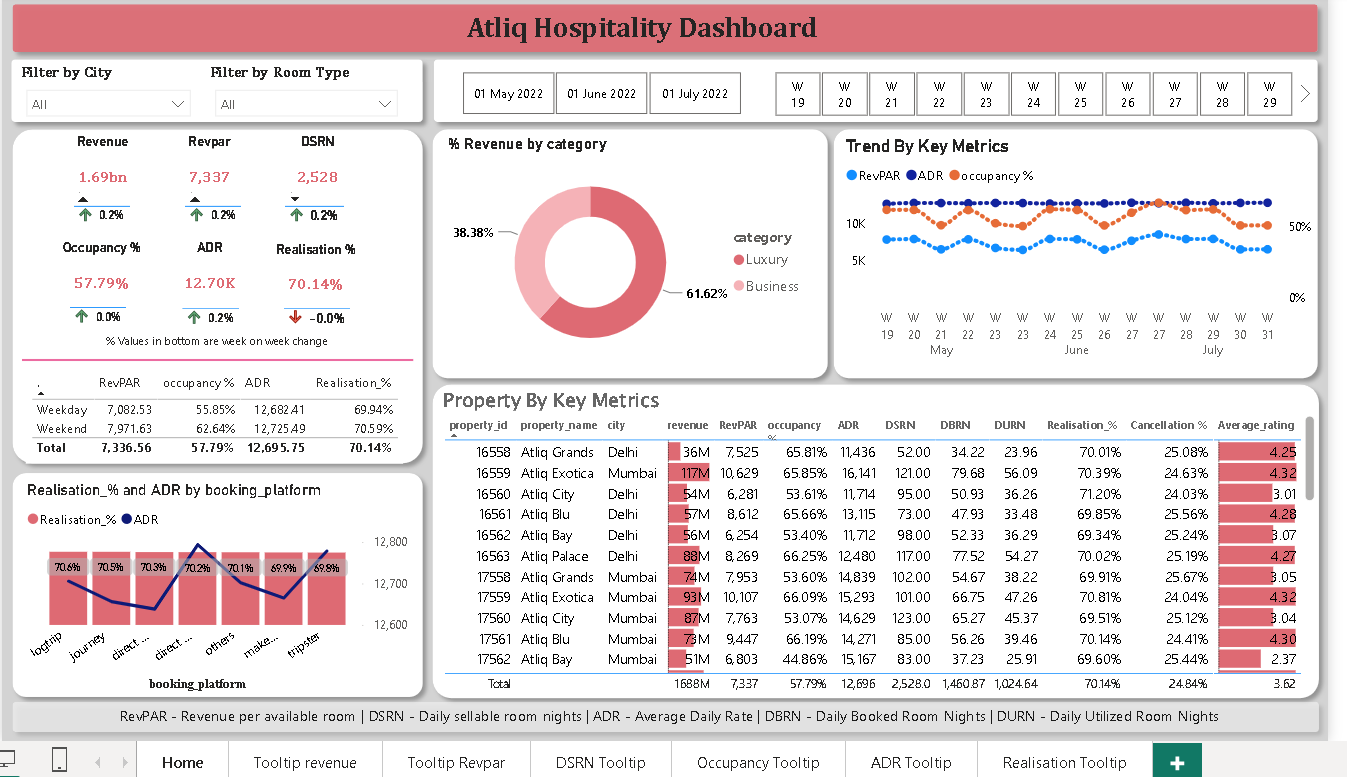

This screenshot's page, from the dashboard's own definition file:
{"tool":"powerbi","page":{"name":"Home","canvas":[1280,720],"ordinal":0},"visuals":[{"type":"shape","box":[1.2,0,1277.2,64],"z":0},{"type":"shape","box":[1.2,120.4,413.7,340.1],"z":1000},{"type":"shape","box":[0,53.1,414.9,78.4],"z":2000},{"type":"shape","box":[407.6,53.1,870.8,78.4],"z":3000},{"type":"shape","box":[1.2,452.3,413.7,234],"z":4000},{"type":"slicer","title":"Filter by City","fields":{"Values":["dim_hotels.city"]},"box":[13.3,67,178.5,53.1],"z":5000},{"type":"slicer","title":"Filter by Room Type","fields":{"Values":["dim_rooms.room_class"]},"box":[195.4,67.5,196.6,53.1],"z":6000},{"type":"slicer","fields":{"Values":["dim_date.mmm yy"]},"box":[418.5,67.5,318.4,54.3],"z":7000},{"type":"slicer","fields":{"Values":["dim_date.week no"]},"box":[720,67.5,548.7,54.3],"z":8000},{"type":"shape","box":[406.4,366.6,873.2,320.8],"z":9000},{"type":"tableEx","fields":{"Values":["key_measures.Revenue_WOW_change%"]},"box":[62.7,169.9,72.4,66.3],"z":10000},{"type":"cardVisual","title":"Revenue","fields":{"Data":["key_measures.revenue"]},"box":[46.6,133.4,100.1,57],"z":11000},{"type":"tableEx","fields":{"Values":["key_measures.Revenue_WOW_change%"]},"box":[266.5,169.9,77.2,57.9],"z":12000},{"type":"tableEx","fields":{"Values":["key_measures.RevPAR_wow_change%"]},"box":[170.1,169.9,73.6,65.1],"z":13000},{"type":"cardVisual","title":"DSRN","fields":{"Data":["key_measures.DSRN"]},"box":[253.3,133.7,102.5,56.7],"z":14000},{"type":"cardVisual","title":"Revpar","fields":{"Data":["key_measures.RevPAR"]},"box":[147.1,133.7,106.1,56.7],"z":15000},{"type":"tableEx","title":"Property By Key Metrics","fields":{"Values":["dim_hotels.property_id","dim_hotels.property_name","dim_hotels.city","key_measures.revenue","key_measures.RevPAR","key_measures.occupancy %","key_measures.ADR","key_measures.DSRN","key_measures.DBRN","key_measures.DURN","key_measures.Realisation_%","key_measures.Cancellation %"]},"box":[420.9,378.7,850.3,299.1],"z":16000},{"type":"tableEx","fields":{"Values":["key_measures.Occupancy_wow_change%"]},"box":[59.1,267.6,72.4,65.1],"z":17000},{"type":"cardVisual","title":"Occupancy %","fields":{"Data":["key_measures.occupancy %"]},"box":[45.8,236.2,101.3,62.7],"z":18000},{"type":"tableEx","fields":{"Values":["key_measures.ADR_wow_change%"]},"box":[167.6,268.8,73.6,65.1],"z":19000},{"type":"cardVisual","title":"ADR","fields":{"Data":["key_measures.ADR"]},"box":[147.1,236.2,106.1,62.7],"z":20000},{"type":"tableEx","fields":{"Values":["key_measures.Realisation_wow_change%"]},"box":[265.3,268.8,77.2,65.1],"z":21000},{"type":"cardVisual","title":"Realisation %","fields":{"Data":["key_measures.Realisation_%"]},"box":[249.6,237.4,106.1,62.7],"z":22000},{"type":"shape","box":[406.4,120.8,399.2,258.1],"z":23000},{"type":"donutChart","title":"% Revenue by category","fields":{"Category":["dim_hotels.category"],"Y":["key_measures.revenue"]},"box":[425.7,135.3,358.2,229.1],"z":24000},{"type":"shape","box":[793.6,120.3,484.8,258.1],"z":25000},{"type":"lineChart","title":"Trend By Key Metrics","fields":{"Category":["dim_date.mmm yy.Variation.Date Hierarchy.Month","dim_date.week no"],"Y":["key_measures.RevPAR","key_measures.ADR"],"Y2":["key_measures.occupancy %"]},"box":[809.2,134.8,459.5,229.1],"z":26000},{"type":"lineStackedColumnComboChart","fields":{"Category":["fact_bookings.booking_platform"],"Y":["key_measures.Realisation_%"],"Y2":["key_measures.ADR"]},"box":[19.3,469.1,377.5,207.4],"z":27000},{"type":"shape","box":[1.2,673,1278.4,47],"z":28000},{"type":"textbox","box":[27.7,681.4,1232.6,31.4],"z":29000},{"type":"tableEx","fields":{"Values":["dim_date.day_type","key_measures.RevPAR","key_measures.occupancy %","key_measures.ADR","key_measures.Realisation_%"]},"box":[22.9,359.2,364.2,92.9],"z":30000},{"type":"shape","box":[19.3,335.1,377.5,33.8],"z":31000},{"type":"textbox","box":[95.3,318.4,238.8,33.8],"z":32000},{"type":"textbox","box":[414.9,9.6,405.2,43.4],"z":33000}]}

Visuals, with their boxes on the page's 1280x720 design canvas (x1, y1, x2, y2). These are canvas units, not pixel positions in the 1347x777 screenshot, which may show the page scaled, cropped or inside an application window:
shape: select_region(1, 0, 1278, 64)
shape: select_region(1, 120, 415, 460)
shape: select_region(0, 53, 415, 132)
shape: select_region(408, 53, 1278, 132)
shape: select_region(1, 452, 415, 686)
"Filter by City" slicer: select_region(13, 67, 192, 120)
"Filter by Room Type" slicer: select_region(195, 68, 392, 121)
slicer - dim_date.mmm yy: select_region(418, 68, 737, 122)
slicer - dim_date.week no: select_region(720, 68, 1269, 122)
shape: select_region(406, 367, 1280, 687)
tableEx - key_measures.Revenue_WOW_change%: select_region(63, 170, 135, 236)
"Revenue" cardVisual: select_region(47, 133, 147, 190)
tableEx - key_measures.Revenue_WOW_change%: select_region(266, 170, 344, 228)
tableEx - key_measures.RevPAR_wow_change%: select_region(170, 170, 244, 235)
"DSRN" cardVisual: select_region(253, 134, 356, 190)
"Revpar" cardVisual: select_region(147, 134, 253, 190)
"Property By Key Metrics" tableEx: select_region(421, 379, 1271, 678)
tableEx - key_measures.Occupancy_wow_change%: select_region(59, 268, 132, 333)
"Occupancy %" cardVisual: select_region(46, 236, 147, 299)
tableEx - key_measures.ADR_wow_change%: select_region(168, 269, 241, 334)
"ADR" cardVisual: select_region(147, 236, 253, 299)
tableEx - key_measures.Realisation_wow_change%: select_region(265, 269, 342, 334)
"Realisation %" cardVisual: select_region(250, 237, 356, 300)
shape: select_region(406, 121, 806, 379)
"% Revenue by category" donutChart: select_region(426, 135, 784, 364)
shape: select_region(794, 120, 1278, 378)
"Trend By Key Metrics" lineChart: select_region(809, 135, 1269, 364)
lineStackedColumnComboChart - fact_bookings.booking_platform x key_measures.Realisation_%: select_region(19, 469, 397, 676)
shape: select_region(1, 673, 1280, 720)
textbox: select_region(28, 681, 1260, 713)
tableEx - dim_date.day_type x key_measures.RevPAR: select_region(23, 359, 387, 452)
shape: select_region(19, 335, 397, 369)
textbox: select_region(95, 318, 334, 352)
textbox: select_region(415, 10, 820, 53)
